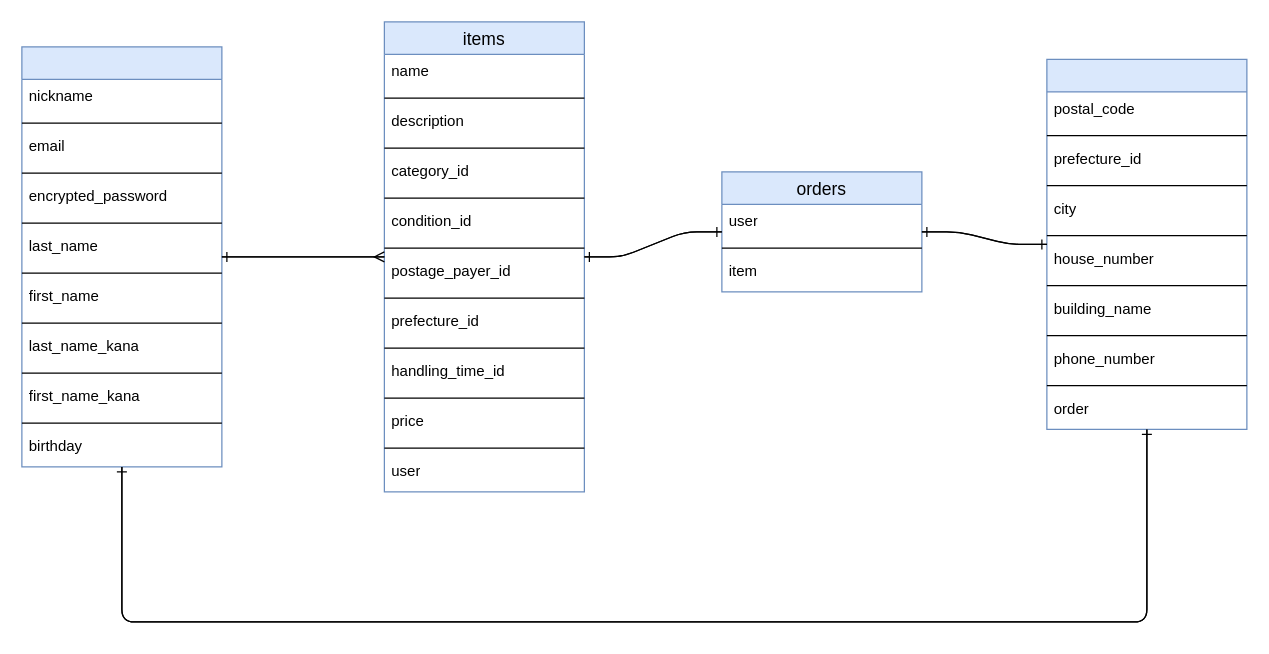
This 1269x654 diagram has some shape labels left out. Here are the shapes that lost their labels. From the top down, the box of each, then its label:
(21, 46, 222, 467): users
(1046, 58, 1247, 429): addresses
